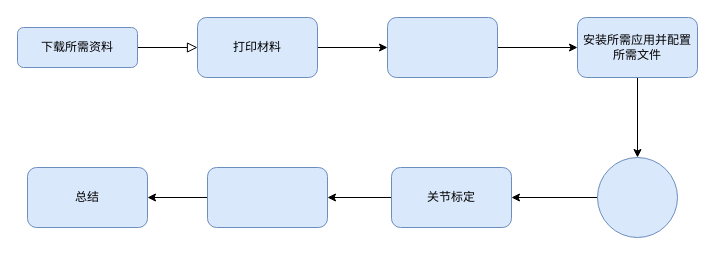
Image size: 715x255. Some labels were removed from this diagram. Here are the shapes that lost their labels. From the top down, the box of each, then its label:
(386, 16, 498, 78): 准备零件（统计并制作清单）
(206, 166, 328, 228): 手机遥控测试
(596, 156, 678, 238): 主控板测试
